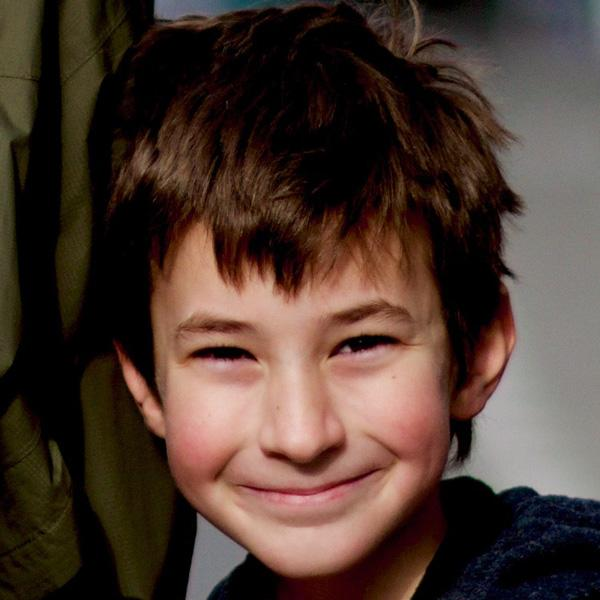Eyes: (319, 325, 406, 372), (182, 333, 262, 377)
